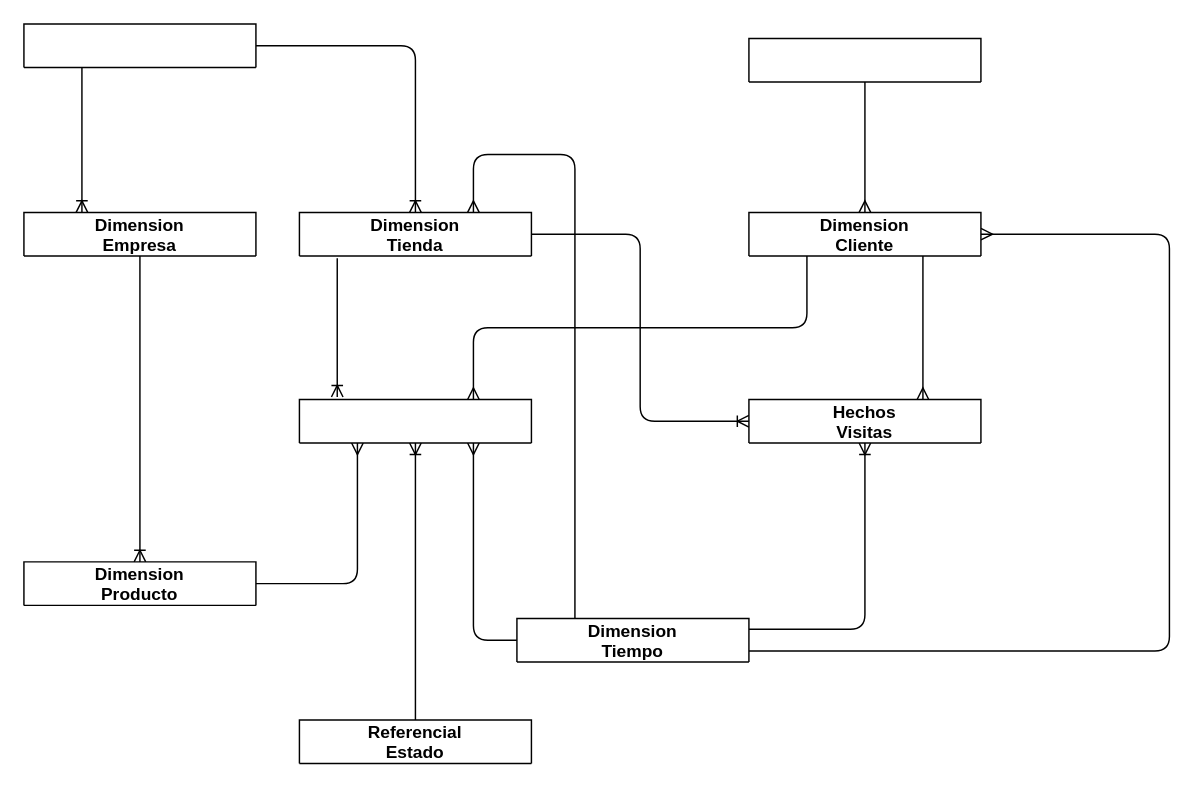
This 1193x787 diagram has some shape labels left out. The shapes that lost their labels are listed below. From the top down, each one's centre as x and y in pixels, then its label:
At [139,44]: "Dimension Geografia".
At [864,59]: "Dimension Barrio".
At [414,420]: "Hechos Pedidos".
